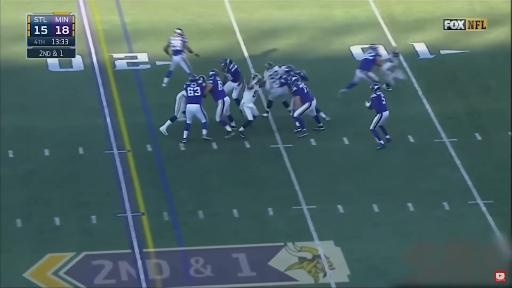Helmet: (251, 72, 262, 83), (370, 82, 381, 92), (209, 69, 218, 78), (265, 62, 275, 70), (285, 65, 294, 73), (189, 74, 197, 82), (175, 28, 183, 35), (198, 75, 206, 82), (223, 59, 230, 66), (369, 45, 378, 50), (393, 51, 399, 57)
Jersey: (289, 82, 313, 104), (184, 82, 205, 104), (208, 77, 226, 102), (264, 66, 285, 87), (358, 51, 380, 71), (368, 92, 387, 113), (242, 80, 258, 103), (169, 36, 187, 55), (225, 63, 241, 82), (293, 71, 309, 81)
Player: (283, 76, 324, 137), (339, 45, 382, 95), (163, 29, 199, 86), (206, 70, 236, 137), (183, 75, 211, 142), (366, 83, 391, 149), (262, 63, 291, 116), (239, 73, 262, 137), (160, 91, 186, 135), (222, 59, 243, 106), (381, 52, 406, 90), (286, 65, 309, 82)
